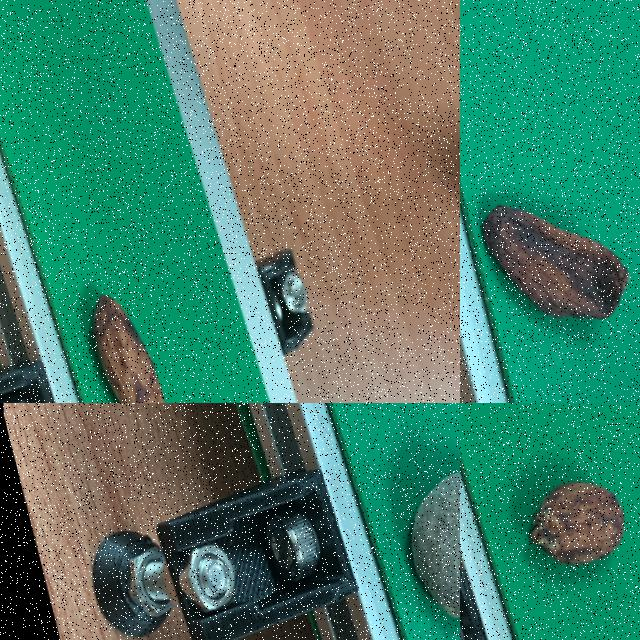Agglomerated_cocoabeans: (344, 403, 459, 639)
Fine_cocoabeans: (0, 165, 230, 402), (462, 405, 639, 639)
Flat_cocoabeans: (460, 93, 639, 400)
